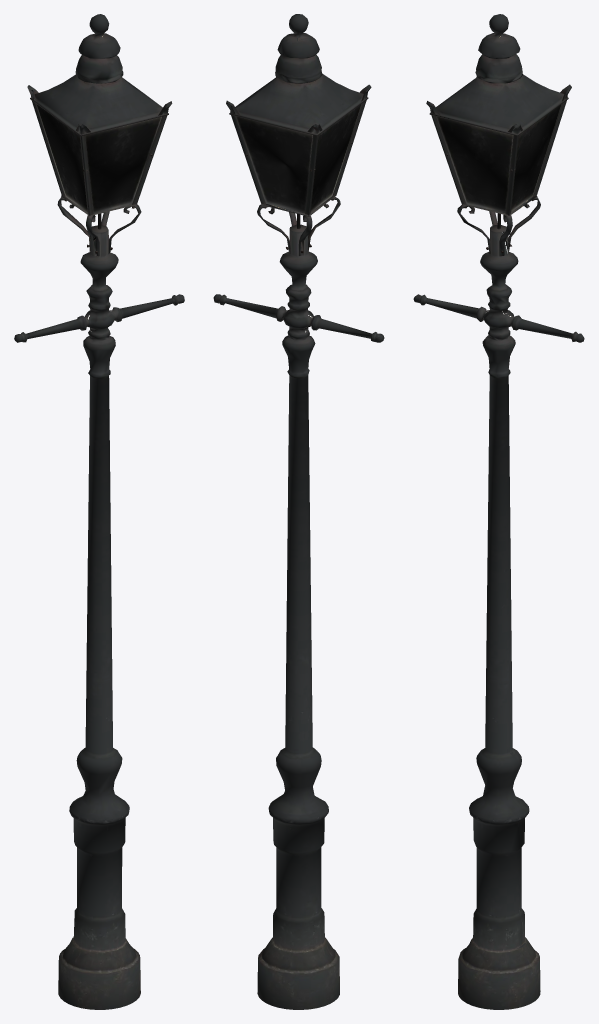
The model's file is street_lamp_01_lod2.glb.
The picture shows the model from 3 angles, left to right: view 1: azimuth 30°, elevation 25°; view 2: azimuth 150°, elevation 25°; view 3: azimuth 330°, elevation 25°; orthographic projection.
Parts seen in each view (by area): view 1: street_lamp_01; view 2: street_lamp_01; view 3: street_lamp_01.
Part boxes in pixels (x1,y1,x2,y2): street_lamp_01: (14,14,184,1009); street_lamp_01: (213,14,384,1009); street_lamp_01: (413,14,584,1009).
Bounding box in the file's own units: 0.7034 × 3.87 × 0.386.
2 materials, 2 textured.
